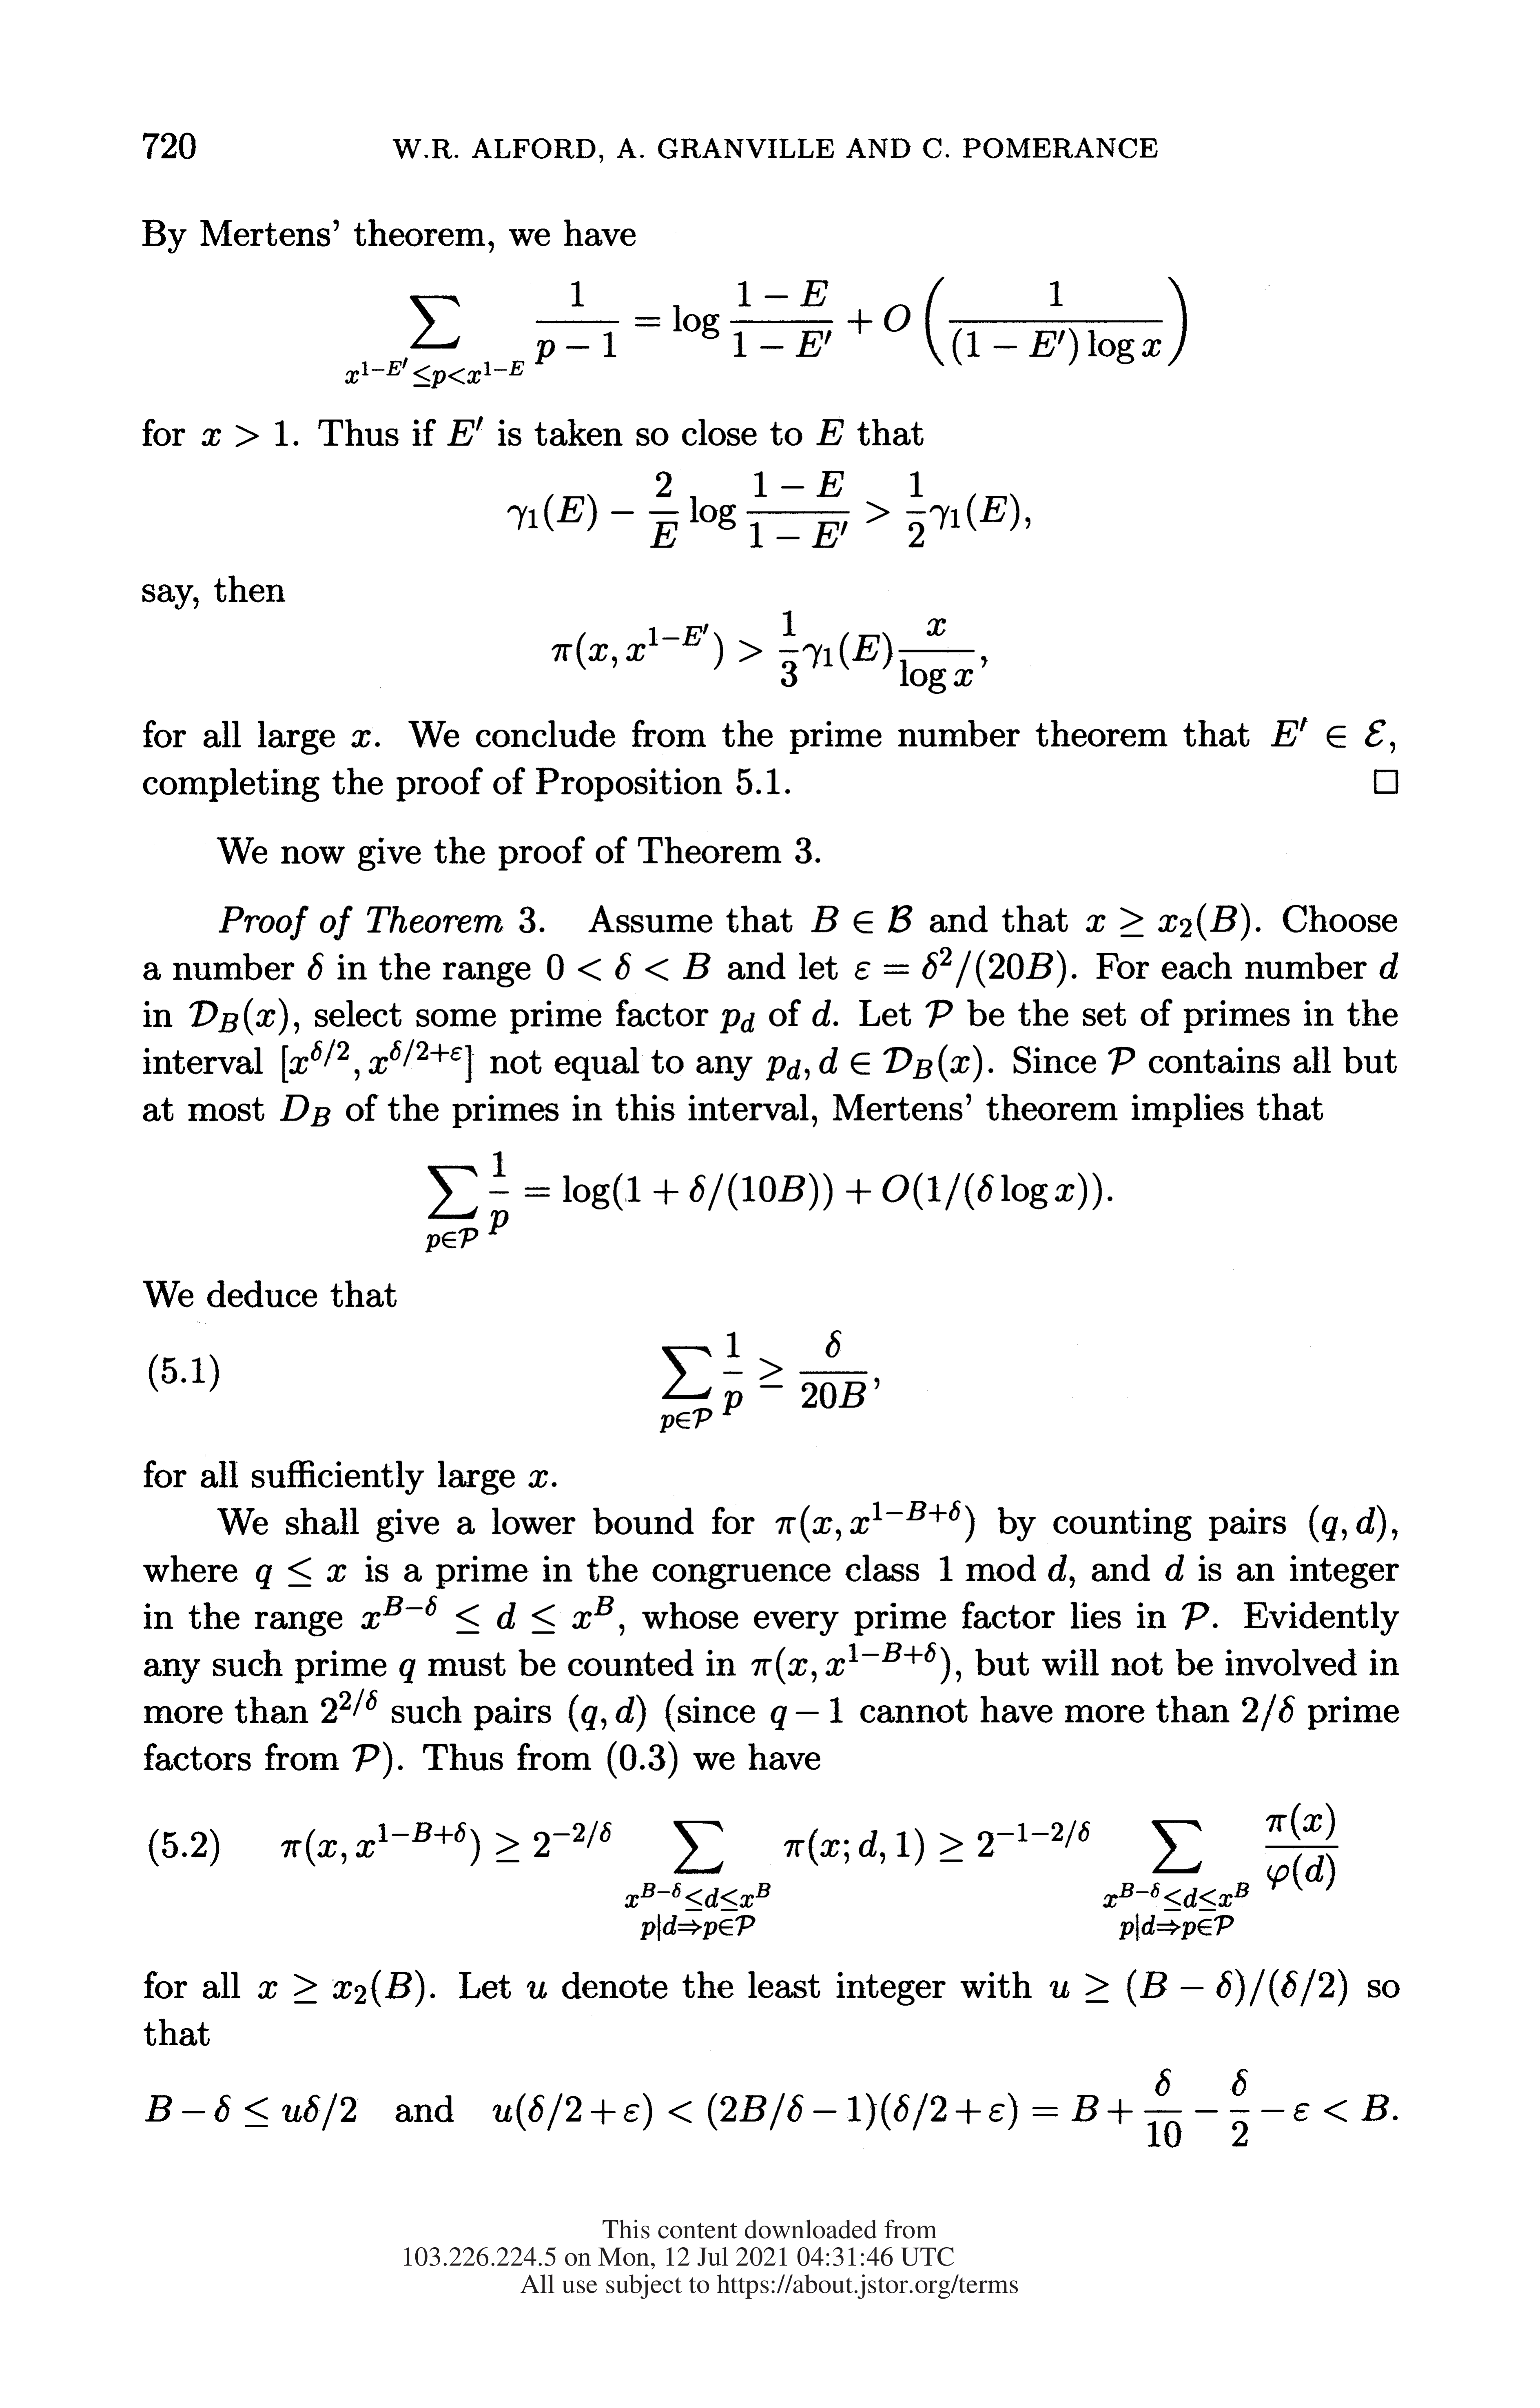maths: (281, 1802, 1338, 1941), (346, 277, 1187, 388), (493, 2069, 1389, 2146), (426, 1151, 1102, 1253), (507, 470, 1019, 548), (551, 611, 975, 693), (659, 1330, 866, 1432), (1049, 1969, 1347, 2006), (361, 1595, 614, 1634), (854, 946, 1066, 988), (775, 1501, 975, 1543), (751, 1643, 951, 1685), (146, 2094, 356, 2131), (258, 1969, 424, 2006), (1086, 904, 1249, 941), (819, 1044, 982, 1081), (368, 1039, 474, 1083), (547, 953, 710, 979), (189, 997, 288, 1036), (1272, 718, 1386, 748), (282, 1039, 360, 1083), (812, 904, 912, 934), (1308, 1504, 1386, 1543), (568, 1694, 645, 1732), (256, 1557, 346, 1588), (966, 1555, 1066, 1581), (770, 1697, 842, 1731), (202, 419, 288, 446), (321, 1688, 377, 1724), (1242, 1694, 1294, 1731), (281, 1095, 330, 1125), (447, 416, 482, 446), (766, 1057, 809, 1079), (721, 1009, 754, 1032), (926, 999, 952, 1027), (1109, 1046, 1135, 1074), (1182, 1602, 1208, 1630), (353, 1745, 381, 1771), (817, 419, 844, 444), (1373, 769, 1398, 793), (1379, 951, 1398, 979), (812, 999, 831, 1027), (1165, 1555, 1184, 1581), (398, 1659, 416, 1683), (307, 953, 323, 979), (526, 1982, 547, 1999), (351, 730, 370, 748), (528, 1471, 547, 1487)
